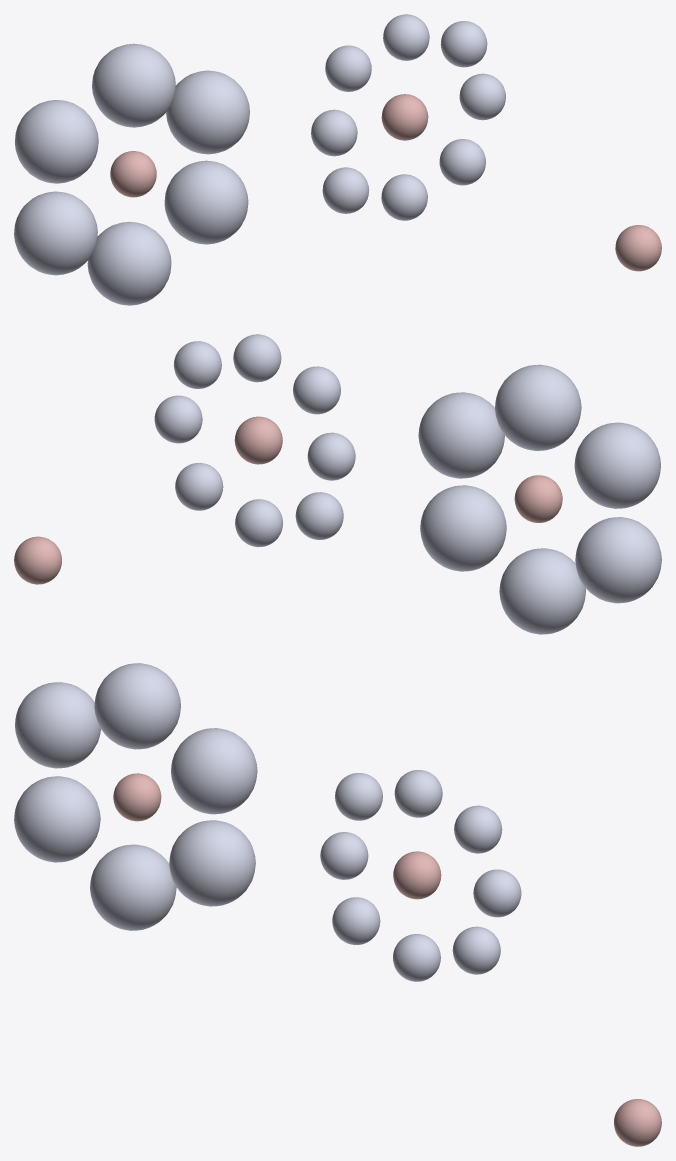
File: Small and Large Ebbinghaus Prototype..fbx
3 renders of one model, top to bottom at view 1: azimuth 30°, elevation 25°; view 2: azimuth 150°, elevation 25°; view 3: azimuth 330°, elevation 25°, orthographic. The views are drawn at different scales.
Parts seen in each view (by area): view 1: Sphere__5_, Sphere__7_, Sphere__3_, Sphere__2_, Sphere__6_, Sphere__4_, Sphere__13_, Sphere__8_, Sphere, Sphere__9_, Sphere__10_, Sphere__11_ (+5 smaller); view 2: Sphere__7_, Sphere__5_, Sphere__2_, Sphere__3_, Sphere__6_, Sphere__4_, Sphere__15_, Sphere__11_, Sphere__10_, Sphere__1_, Sphere__9_, Sphere__12_ (+5 smaller); view 3: Sphere__7_, Sphere__2_, Sphere__3_, Sphere__4_, Sphere__6_, Sphere__5_, Sphere__15_, Sphere, Sphere__17_, Sphere__10_, Sphere__1_, Sphere__14_ (+5 smaller).
Part boxes in pixels (x1,y1,x2,y2): Sphere__5_: (15, 100, 98, 183); Sphere__7_: (164, 160, 248, 244); Sphere__3_: (92, 43, 175, 127); Sphere__2_: (14, 191, 97, 275); Sphere__6_: (87, 221, 171, 305); Sphere__4_: (166, 70, 249, 154); Sphere__13_: (381, 174, 427, 220); Sphere__8_: (615, 225, 661, 271); Sphere: (110, 151, 156, 197); Sphere__9_: (325, 45, 371, 91); Sphere__10_: (383, 14, 429, 60); Sphere__11_: (311, 109, 357, 156); Sphere__7_: (420, 485, 506, 571); Sphere__5_: (574, 422, 660, 508); Sphere__2_: (575, 517, 661, 603); Sphere__3_: (495, 364, 581, 450); Sphere__6_: (499, 548, 585, 634); Sphere__4_: (418, 392, 504, 478); Sphere__15_: (154, 395, 202, 443); Sphere__11_: (307, 432, 355, 480); Sphere__10_: (233, 334, 281, 382); Sphere__1_: (234, 416, 282, 464); Sphere__9_: (293, 366, 340, 414); Sphere__12_: (173, 341, 221, 388); Sphere__7_: (169, 820, 255, 906); Sphere__2_: (14, 776, 100, 862); Sphere__3_: (94, 663, 180, 749); Sphere__4_: (171, 728, 257, 814); Sphere__6_: (90, 844, 176, 930); Sphere__5_: (15, 682, 100, 768); Sphere__15_: (473, 869, 521, 917); Sphere: (113, 773, 161, 821); Sphere__17_: (452, 926, 500, 974); Sphere__10_: (394, 770, 442, 817); Sphere__1_: (393, 851, 441, 899); Sphere__14_: (332, 897, 380, 944).
Size of the model in its own units: 778 by 396 by 90.86.
